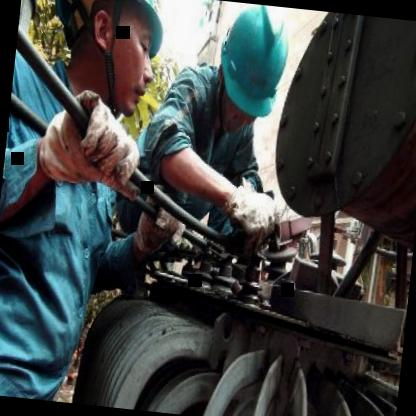helmet: (57, 0, 183, 124), (206, 0, 296, 139)
